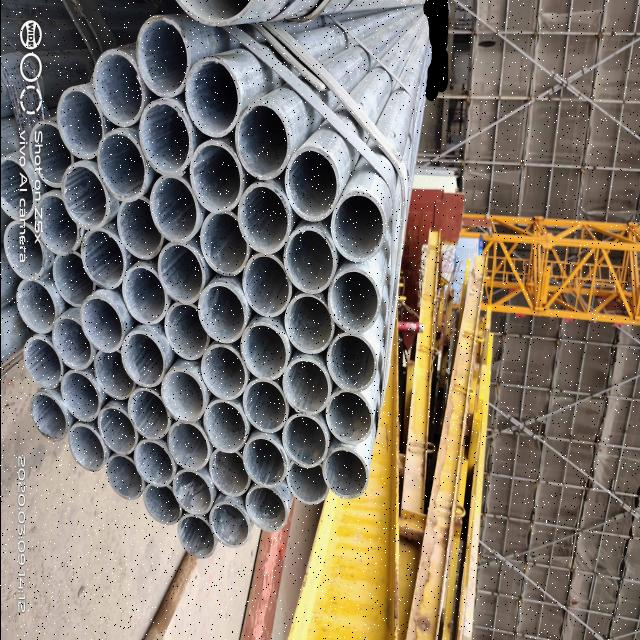pipe: (134, 11, 192, 100), (183, 54, 242, 140), (232, 100, 292, 182), (136, 96, 194, 178), (90, 46, 146, 130), (282, 144, 340, 222), (188, 138, 245, 216), (235, 180, 292, 256), (328, 190, 386, 264), (281, 224, 337, 296), (54, 84, 105, 162), (96, 128, 148, 204), (196, 209, 252, 279), (59, 160, 112, 232), (148, 172, 200, 245), (326, 267, 381, 335), (239, 252, 293, 320), (32, 188, 82, 258), (195, 280, 248, 346), (27, 118, 75, 190), (238, 318, 290, 384), (156, 240, 208, 306), (115, 194, 165, 262), (325, 332, 378, 394), (282, 292, 334, 354), (280, 355, 332, 417), (162, 300, 212, 364), (78, 226, 127, 290), (120, 263, 168, 327), (198, 342, 248, 402), (119, 327, 167, 389), (50, 248, 98, 310), (1, 219, 47, 283), (78, 292, 125, 354), (240, 378, 290, 436), (158, 366, 206, 426), (324, 390, 375, 446), (280, 412, 329, 470), (200, 398, 249, 456), (240, 432, 288, 490), (49, 312, 95, 372), (320, 446, 370, 501), (14, 276, 58, 336), (0, 152, 36, 224), (126, 386, 172, 442), (165, 418, 211, 472), (92, 346, 136, 402), (21, 334, 64, 391), (242, 482, 289, 534), (60, 366, 102, 424), (132, 436, 176, 491), (95, 402, 138, 458), (207, 446, 251, 498), (206, 499, 250, 550), (28, 390, 69, 444), (170, 468, 214, 518), (66, 420, 106, 475), (104, 451, 146, 502), (285, 460, 329, 508), (175, 512, 216, 561), (141, 480, 182, 528)
